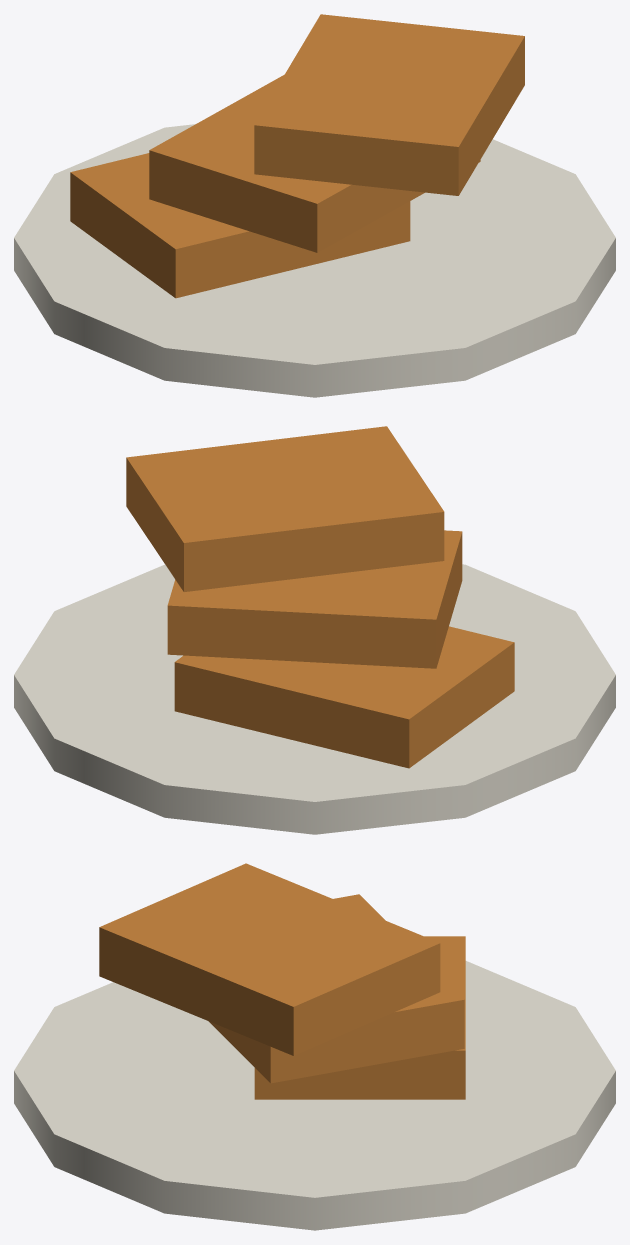
Rendered from good-toast.glb.
3 renders of one model, top to bottom at view 1: azimuth 30°, elevation 25°; view 2: azimuth 150°, elevation 25°; view 3: azimuth 270°, elevation 25°, orthographic.
Parts seen in each view (by area): view 1: #e4e0d4, #c8843c; view 2: #c8843c, #e4e0d4; view 3: #e4e0d4, #c8843c.
Boxes of the visible parts, x1,y1,x2,y2 form: #e4e0d4: (14,124,615,397); #c8843c: (70,14,524,298); #c8843c: (126,426,514,768); #e4e0d4: (14,564,615,834); #e4e0d4: (14,961,615,1230); #c8843c: (99,863,465,1099).
Size of the model in its own units: 0.2 by 0.071 by 0.2.
